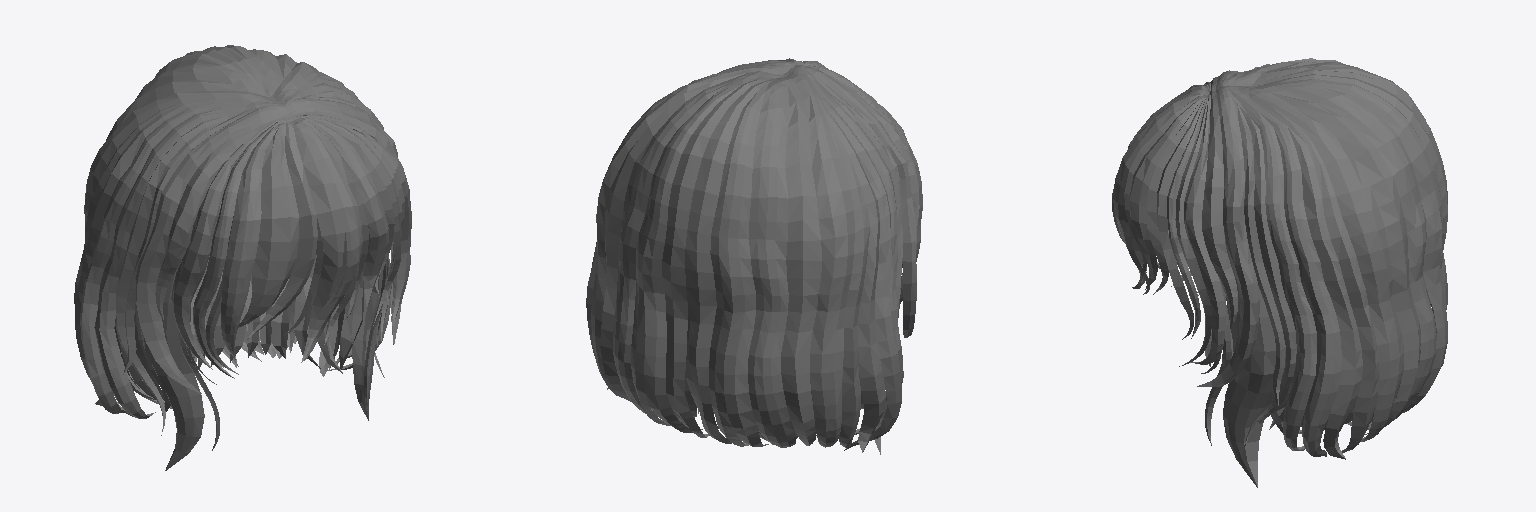
Rendered from hair.obj.
3 views of the same model, side by side, from view 1: azimuth 30°, elevation 25°; view 2: azimuth 150°, elevation 25°; view 3: azimuth 270°, elevation 25° (orthographic).
Parts seen in each view (by area): view 1: 横／後髪_Remilia_Scarlet_mesh_Remilia_Scarlet.049, 前髪_Remilia_Scarlet_mesh_Remilia_Scarlet.007, 後髪中２_Remilia_Scarlet_mesh_Remilia_Scarlet.024, 後髪最奥_Remilia_Scarlet_mesh_Remilia_Scarlet.017, 後髪中１_Remilia_Scarlet_mesh_Remilia_Scarlet.029, 前髪補助_Remilia_Scarlet_mesh_Remilia_Scarlet.055; view 2: 横／後髪_Remilia_Scarlet_mesh_Remilia_Scarlet.049, 前髪_Remilia_Scarlet_mesh_Remilia_Scarlet.007, 後髪中２_Remilia_Scarlet_mesh_Remilia_Scarlet.024; view 3: 横／後髪_Remilia_Scarlet_mesh_Remilia_Scarlet.049, 前髪_Remilia_Scarlet_mesh_Remilia_Scarlet.007, 後髪中２_Remilia_Scarlet_mesh_Remilia_Scarlet.024.
Boxes of the visible parts, x1,y1,x2,y2 form: 横／後髪_Remilia_Scarlet_mesh_Remilia_Scarlet.049: [74, 45, 404, 435]; 前髪_Remilia_Scarlet_mesh_Remilia_Scarlet.007: [171, 114, 411, 378]; 後髪中２_Remilia_Scarlet_mesh_Remilia_Scarlet.024: [114, 227, 388, 470]; 後髪最奥_Remilia_Scarlet_mesh_Remilia_Scarlet.017: [190, 255, 342, 373]; 後髪中１_Remilia_Scarlet_mesh_Remilia_Scarlet.029: [134, 267, 363, 411]; 前髪補助_Remilia_Scarlet_mesh_Remilia_Scarlet.055: [206, 216, 359, 374]; 横／後髪_Remilia_Scarlet_mesh_Remilia_Scarlet.049: [586, 60, 917, 452]; 前髪_Remilia_Scarlet_mesh_Remilia_Scarlet.007: [778, 58, 922, 303]; 後髪中２_Remilia_Scarlet_mesh_Remilia_Scarlet.024: [685, 239, 900, 454]; 横／後髪_Remilia_Scarlet_mesh_Remilia_Scarlet.049: [1197, 58, 1447, 459]; 前髪_Remilia_Scarlet_mesh_Remilia_Scarlet.007: [1113, 82, 1225, 366]; 後髪中２_Remilia_Scarlet_mesh_Remilia_Scarlet.024: [1198, 232, 1430, 487].
Size of the model in its own units: 0.2757 by 0.3168 by 0.2631.